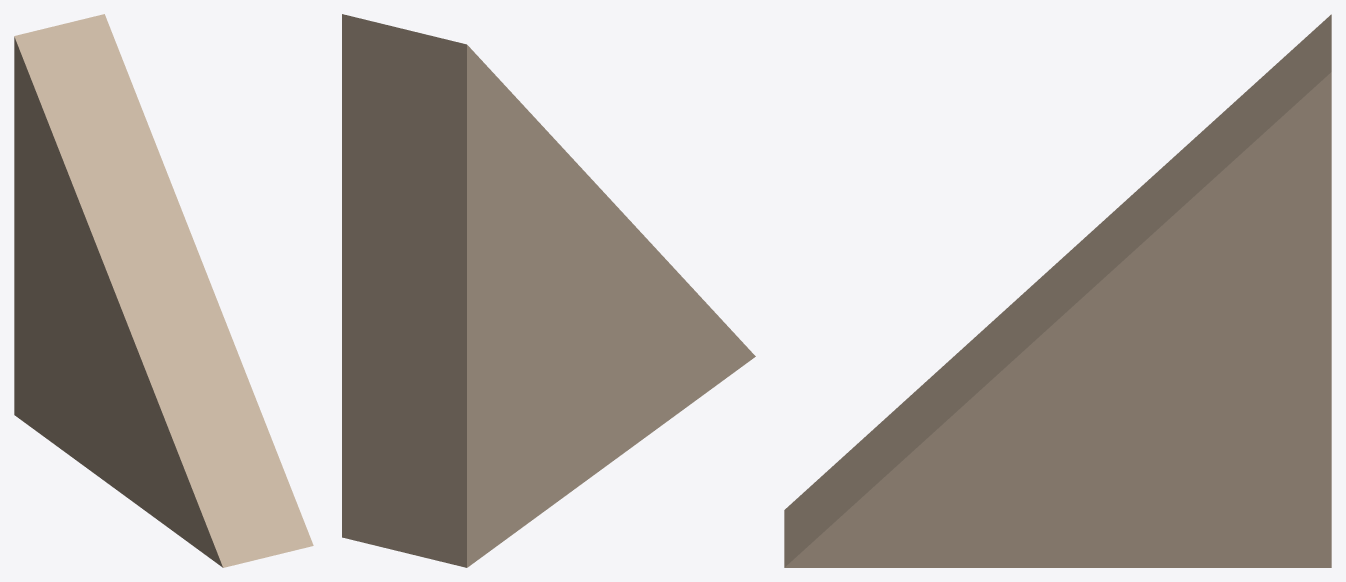
The model's file is Wall-1-45d-2x2x05m.fbx.
3 views of the same model, side by side, from view 1: azimuth 30°, elevation 25°; view 2: azimuth 150°, elevation 25°; view 3: azimuth 270°, elevation 25° (orthographic). The views are drawn at different scales.
Visible parts, largest first — view 1: Cube.039; view 2: Cube.039; view 3: Cube.039.
Part boxes in pixels (x1=…): Cube.039: x1=14, y1=14, x2=313, y2=567; Cube.039: x1=342, y1=14, x2=755, y2=567; Cube.039: x1=784, y1=14, x2=1331, y2=567.
Size of the model in its own units: 50 by 200 by 200.
